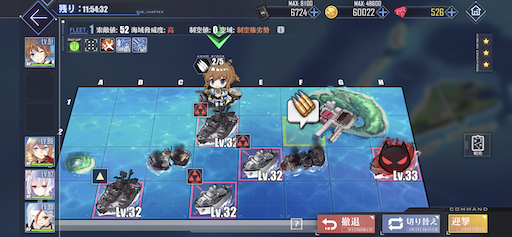boss: (368, 135, 422, 181)
lv1: (92, 170, 140, 216)
lv3: (187, 168, 238, 218), (236, 134, 283, 181), (192, 100, 238, 147)
